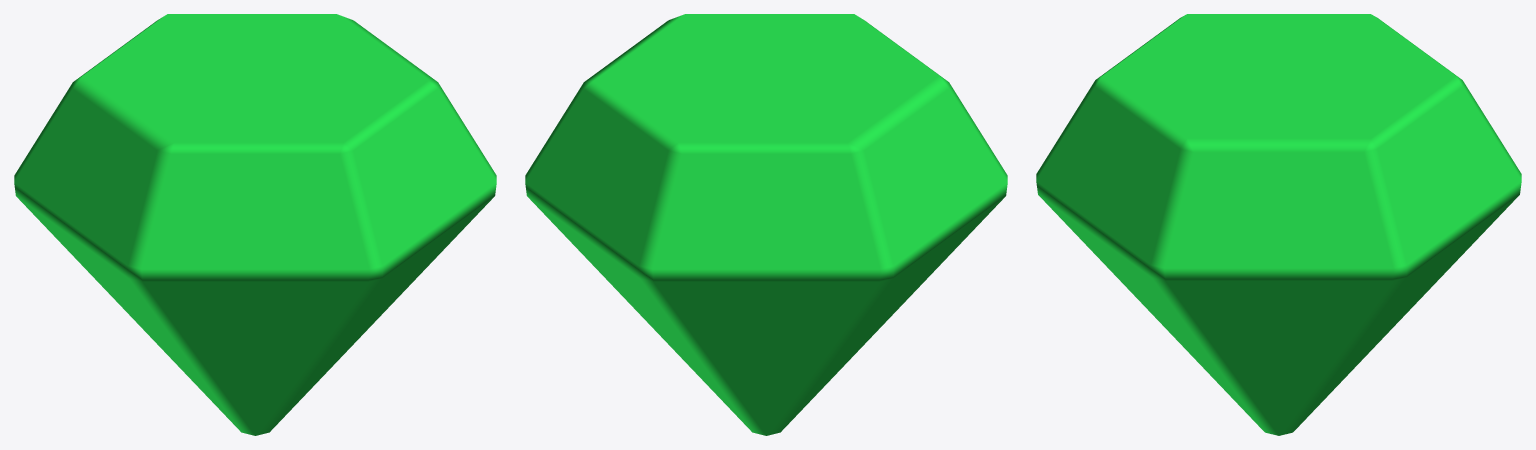
File: crystal1-2notex.fbx
The picture shows the model from 3 angles, left to right: view 1: azimuth 30°, elevation 25°; view 2: azimuth 150°, elevation 25°; view 3: azimuth 270°, elevation 25°; orthographic projection.
Visible parts, largest first — view 1: crystal1-2notex; view 2: crystal1-2notex; view 3: crystal1-2notex.
Part boxes in pixels (<box>): crystal1-2notex: <box>14,14,496,435</box>; crystal1-2notex: <box>525,14,1007,435</box>; crystal1-2notex: <box>1036,14,1521,435</box>.
Bounding box in the file's own units: 0.3862 × 0.351 × 0.4376.
